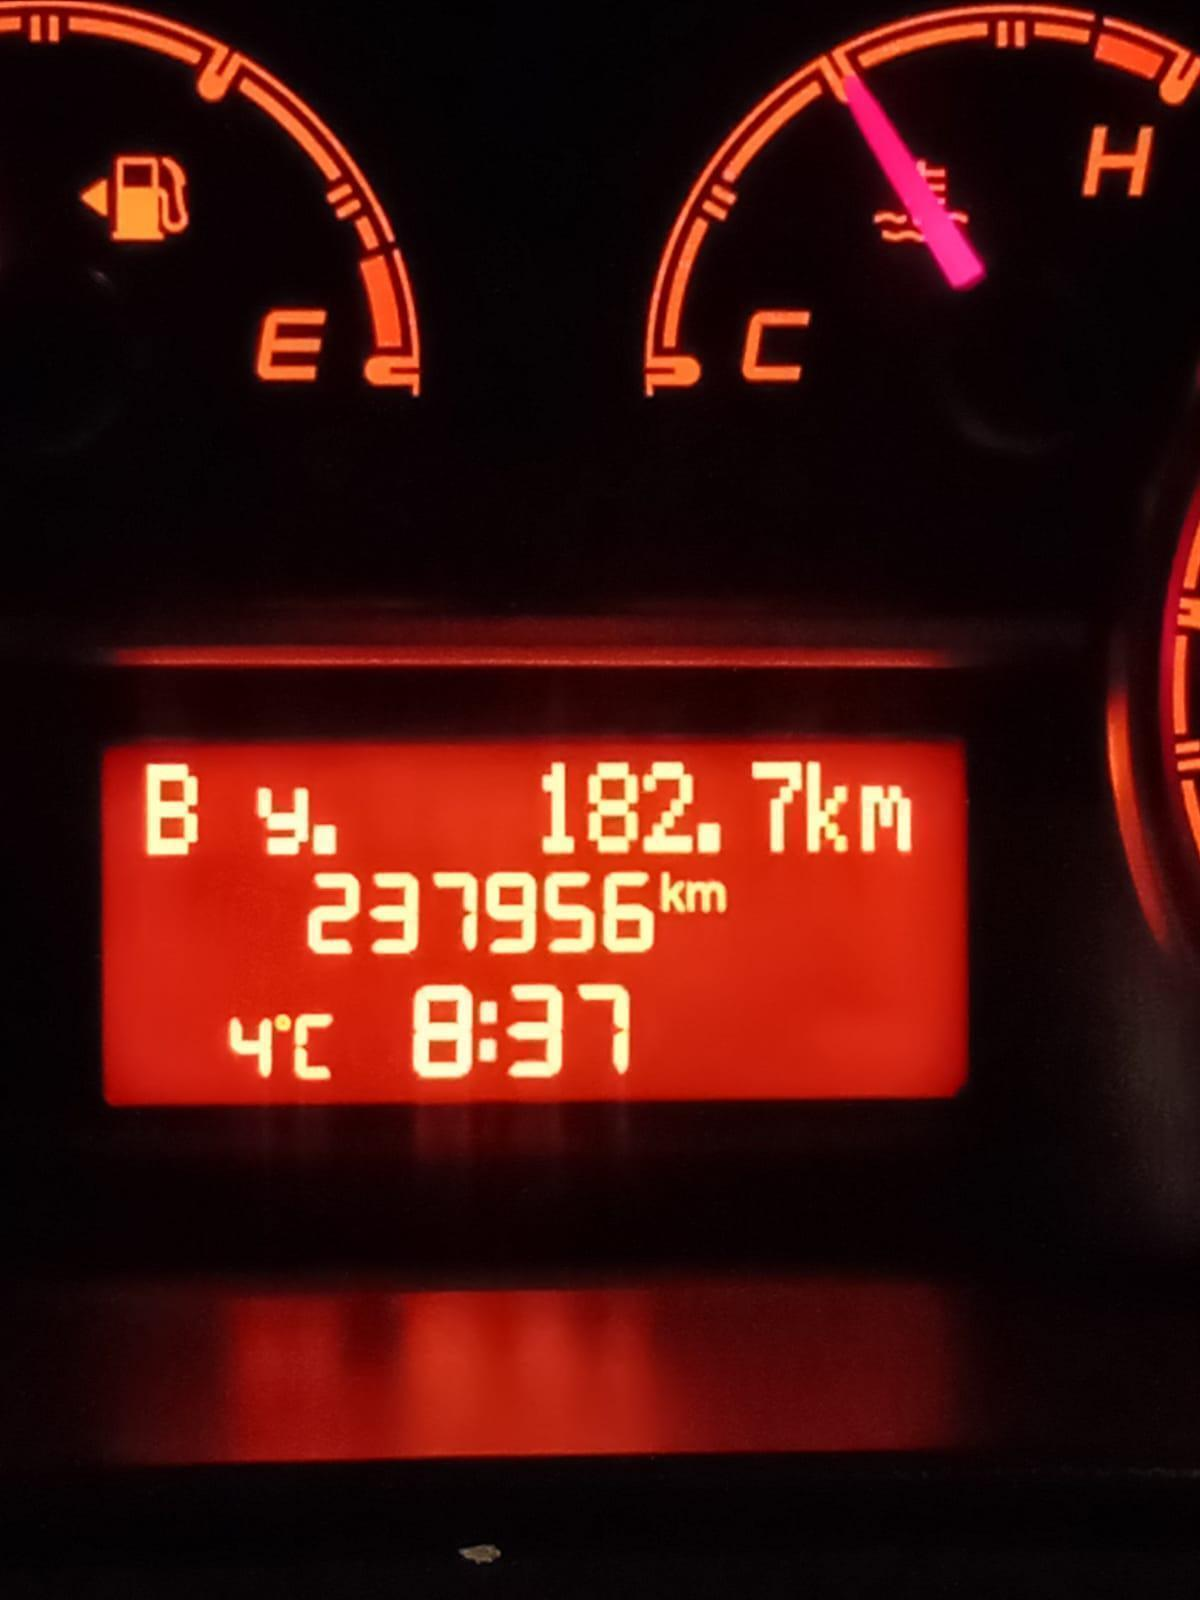,: (695, 821, 724, 855), (310, 821, 337, 857)
1: (539, 761, 577, 855)
2: (303, 871, 362, 956), (642, 760, 695, 854)
3: (505, 983, 565, 1078), (368, 871, 421, 956)
4: (226, 1015, 274, 1081)
5: (543, 871, 597, 954)
6: (599, 869, 655, 955)
7: (574, 981, 634, 1077), (749, 758, 803, 855), (431, 871, 478, 954)
8: (408, 981, 475, 1081), (584, 760, 642, 855)
9: (482, 869, 539, 952)
X: (144, 761, 199, 858), (804, 758, 850, 854), (857, 784, 914, 855), (255, 784, 310, 855), (291, 1010, 333, 1083), (476, 999, 500, 1065), (686, 878, 727, 915), (658, 871, 686, 915)
odometer: (92, 732, 976, 1112)
